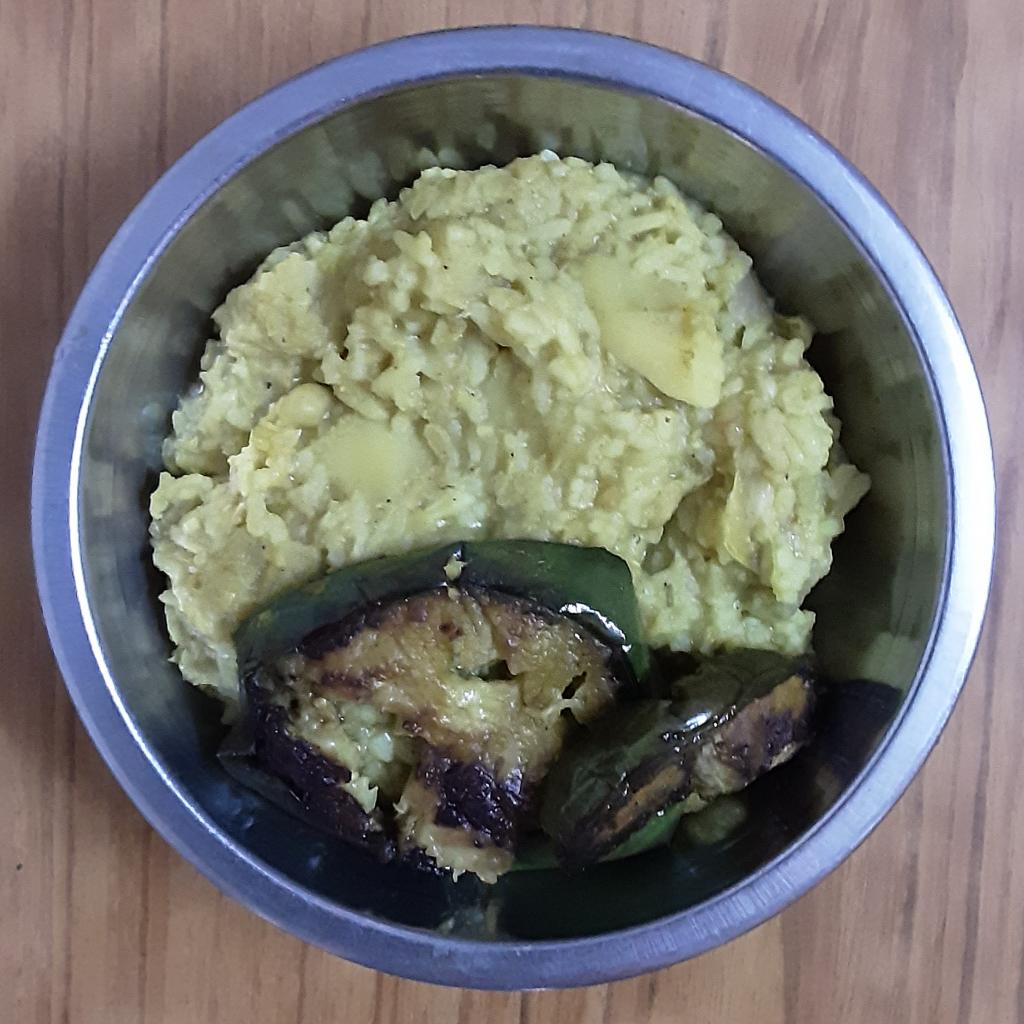begun-vaji: (209, 532, 824, 888)
khichuri: (145, 151, 873, 722)
